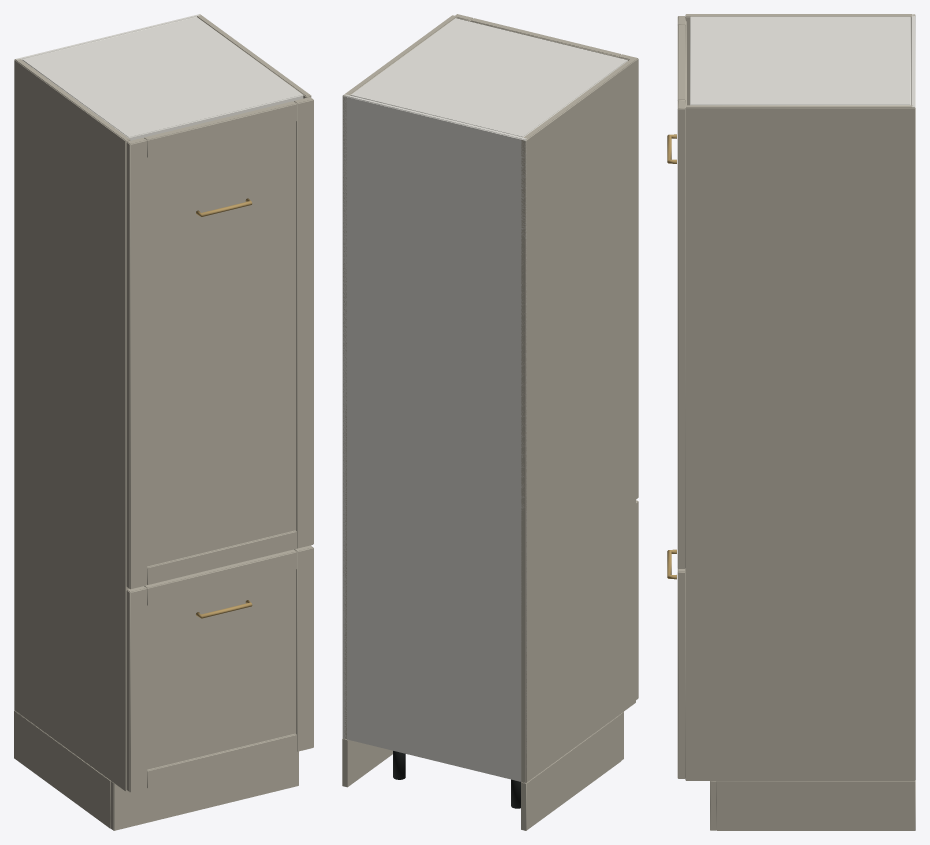
The model's file is scandinavian.kitchen_tall.gltf.
3 renders of one model, left to right at view 1: azimuth 30°, elevation 25°; view 2: azimuth 150°, elevation 25°; view 3: azimuth 270°, elevation 25°, orthographic. The views are drawn at different scales.
Visible parts, largest first — view 1: scandinavian.kitchen_tall.back; view 2: scandinavian.kitchen_tall.back; view 3: scandinavian.kitchen_tall.back.
Boxes of the visible parts, box(x1,y1,x2,y2) form: scandinavian.kitchen_tall.back: box(14, 14, 313, 830); scandinavian.kitchen_tall.back: box(342, 14, 638, 830); scandinavian.kitchen_tall.back: box(667, 14, 915, 830).
Bounding box in the file's own units: 0.599 × 2.15 × 0.669.
